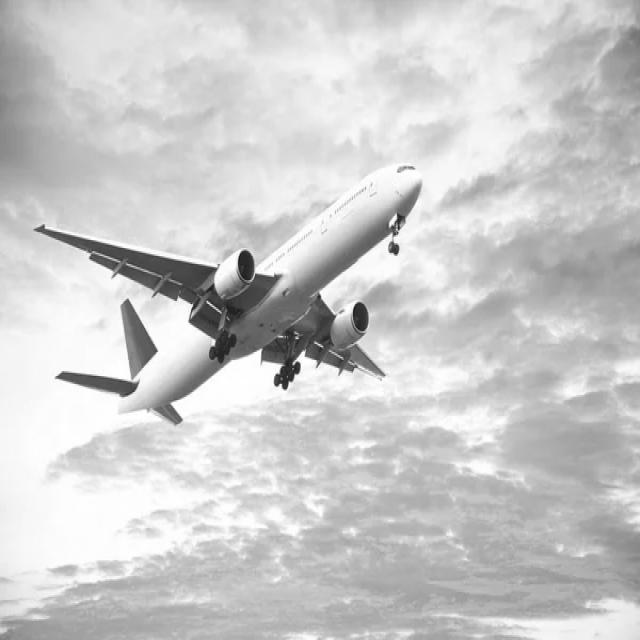Aircraft: (30, 148, 423, 426)
